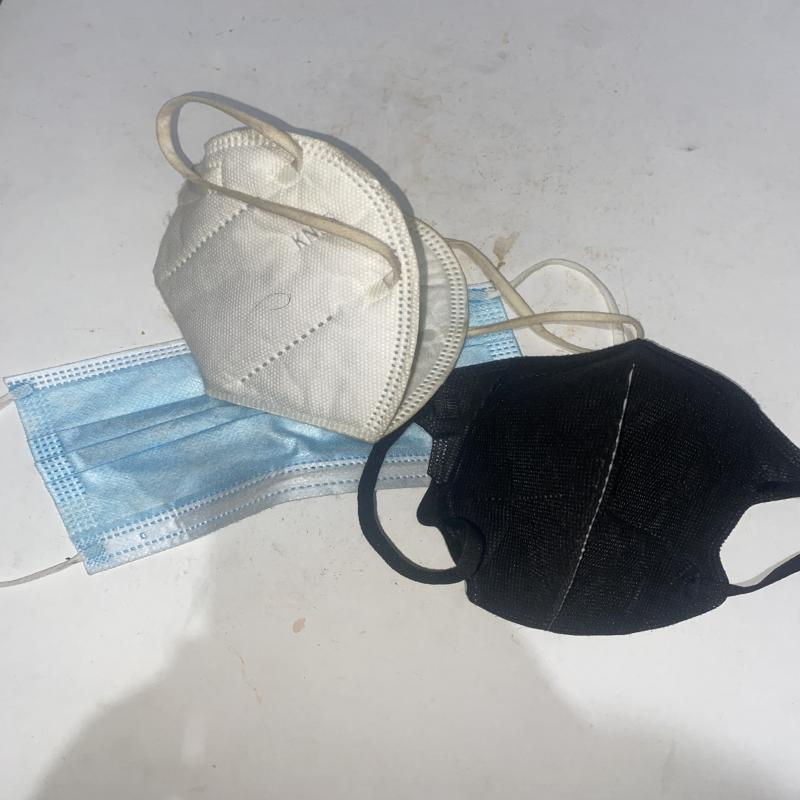facemask: (357, 339, 800, 641), (152, 92, 471, 448), (7, 340, 373, 579)
